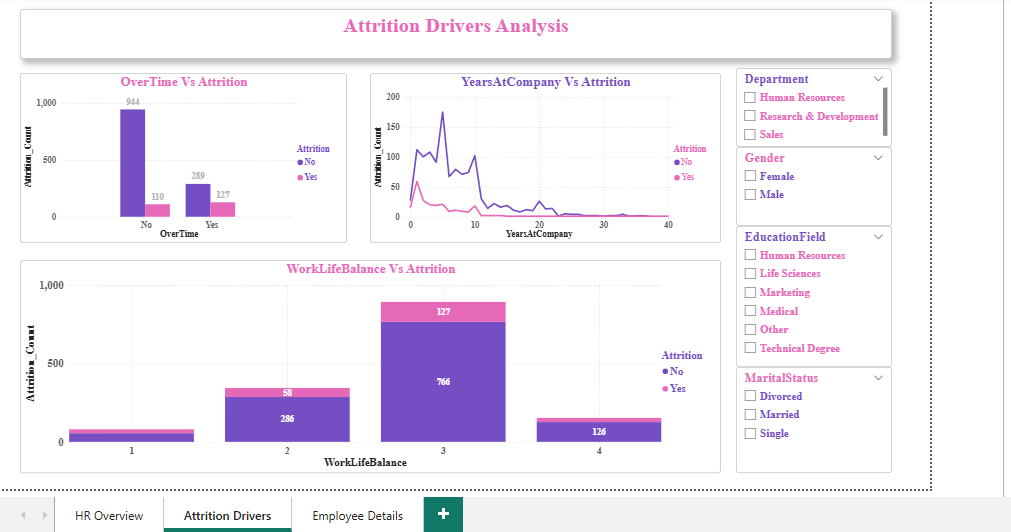

The dashboard page shown, as its layout file describes it:
{"tool":"powerbi","page":{"name":"Attrition Drivers","canvas":[1700,900],"ordinal":1},"visuals":[{"type":"clusteredColumnChart","title":"OverTime Vs Attrition","fields":{"Category":["HR.OverTime"],"Series":["HR.Attrition"],"Y":["CountNonNull(HR.Attrition)"]},"box":[36.6,139,598.2,311],"z":0},{"type":"columnChart","title":" WorkLifeBalance Vs Attrition","fields":{"Category":["HR.WorkLifeBalance"],"Y":["CountNonNull(HR.Attrition)"],"Series":["HR.Attrition"]},"box":[36.6,481.1,1282.3,389.6],"z":1000},{"type":"slicer","fields":{"Values":["HR.Department"]},"box":[1347.2,129.8,285.2,144.4],"z":2000},{"type":"slicer","fields":{"Values":["HR.EducationField"]},"box":[1346.3,418.9,285.4,257.9],"z":3000},{"type":"slicer","fields":{"Values":["HR.Gender"]},"box":[1347.2,274.2,285.2,144.4],"z":4000},{"type":"slicer","fields":{"Values":["HR.MaritalStatus"]},"box":[1346.3,676.8,285.4,193.9],"z":5000},{"type":"lineChart","title":"YearsAtCompany Vs Attrition ","fields":{"Category":["HR.YearsAtCompany"],"Y":["CountNonNull(HR.Attrition)"],"Series":["HR.Attrition"]},"box":[676.8,139,642.1,311],"z":6000},{"type":"textbox","box":[36.6,22,1595.1,91.5],"z":7000}]}

Visuals, with their boxes on the page's 1700x900 design canvas (x1, y1, x2, y2). These are canvas units, not pixel positions in the 1011x532 screenshot, which may show the page scaled, cropped or inside an application window:
"OverTime Vs Attrition" clusteredColumnChart: locate(37, 139, 635, 450)
" WorkLifeBalance Vs Attrition" columnChart: locate(37, 481, 1319, 871)
slicer - HR.Department: locate(1347, 130, 1632, 274)
slicer - HR.EducationField: locate(1346, 419, 1632, 677)
slicer - HR.Gender: locate(1347, 274, 1632, 419)
slicer - HR.MaritalStatus: locate(1346, 677, 1632, 871)
"YearsAtCompany Vs Attrition " lineChart: locate(677, 139, 1319, 450)
textbox: locate(37, 22, 1632, 114)
